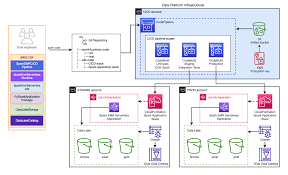codebuild: (209, 43, 223, 57), (183, 43, 196, 57), (156, 43, 169, 56)
codepipeline: (140, 18, 155, 32)
s3: (228, 138, 244, 154), (251, 21, 267, 37), (76, 138, 92, 154), (97, 138, 113, 154), (118, 138, 134, 154), (186, 138, 202, 154), (206, 138, 222, 154)
